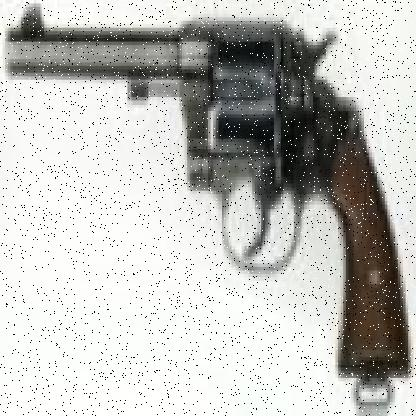pistol: (5, 3, 408, 374)
